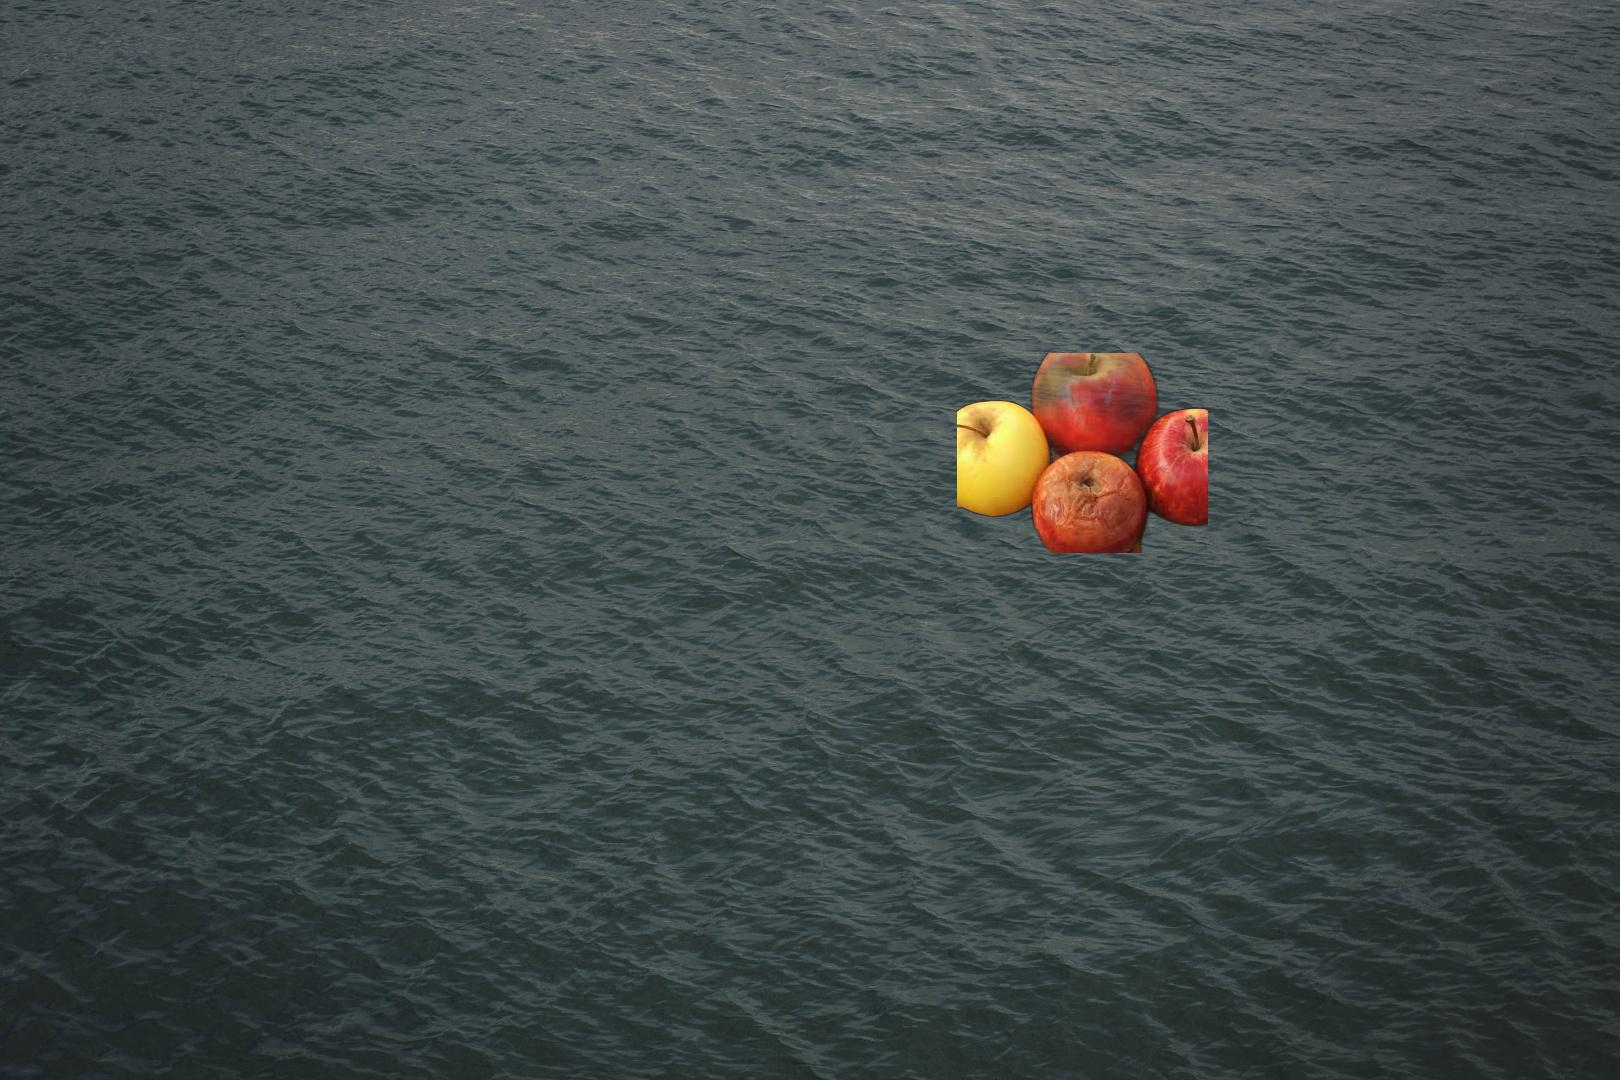biological: (957, 353, 1208, 553)
